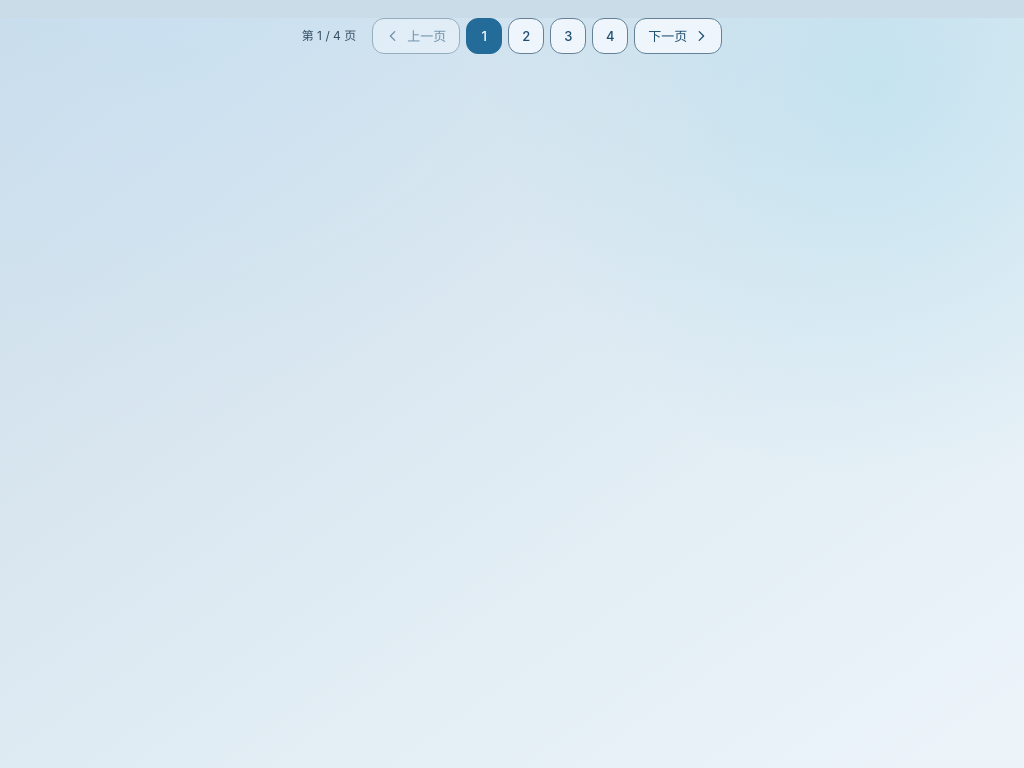
FeaturePagination › disables previous on the first page and next on the last page
Expected: the button "上一页" is disabled, [372, 18, 460, 54]
Click the button "下一页": (678, 36) [634, 18, 722, 54]
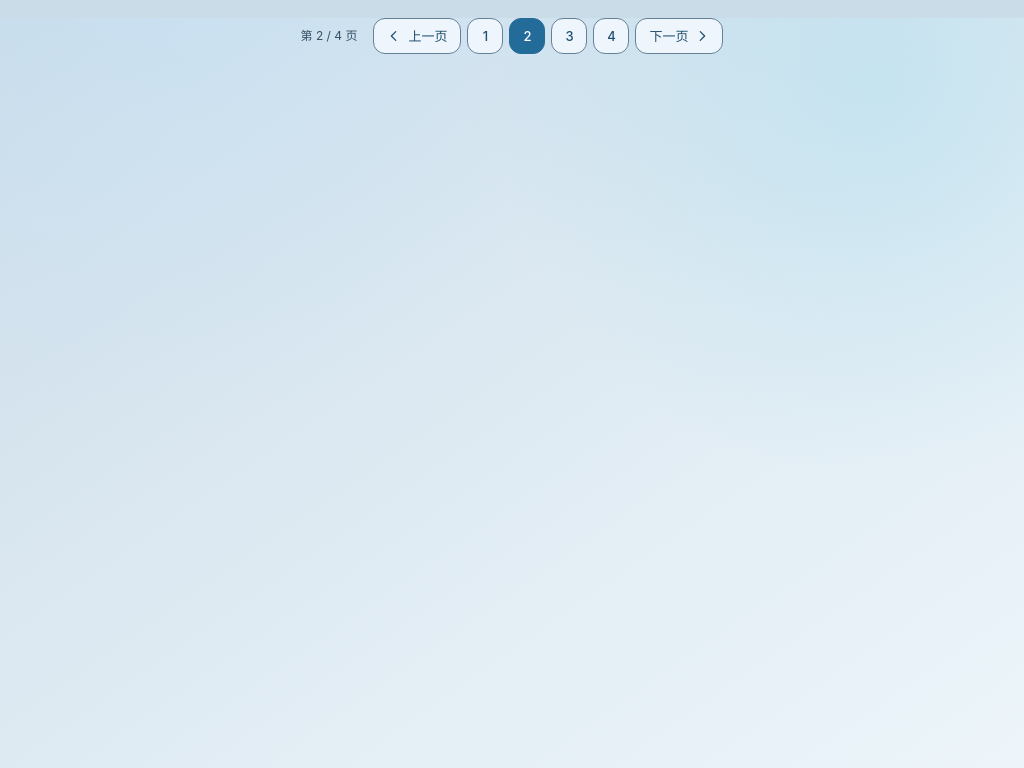
Expected: the button "2" is marked as current, [510, 18, 546, 54]
Click the button "4": (612, 36) [594, 18, 630, 54]
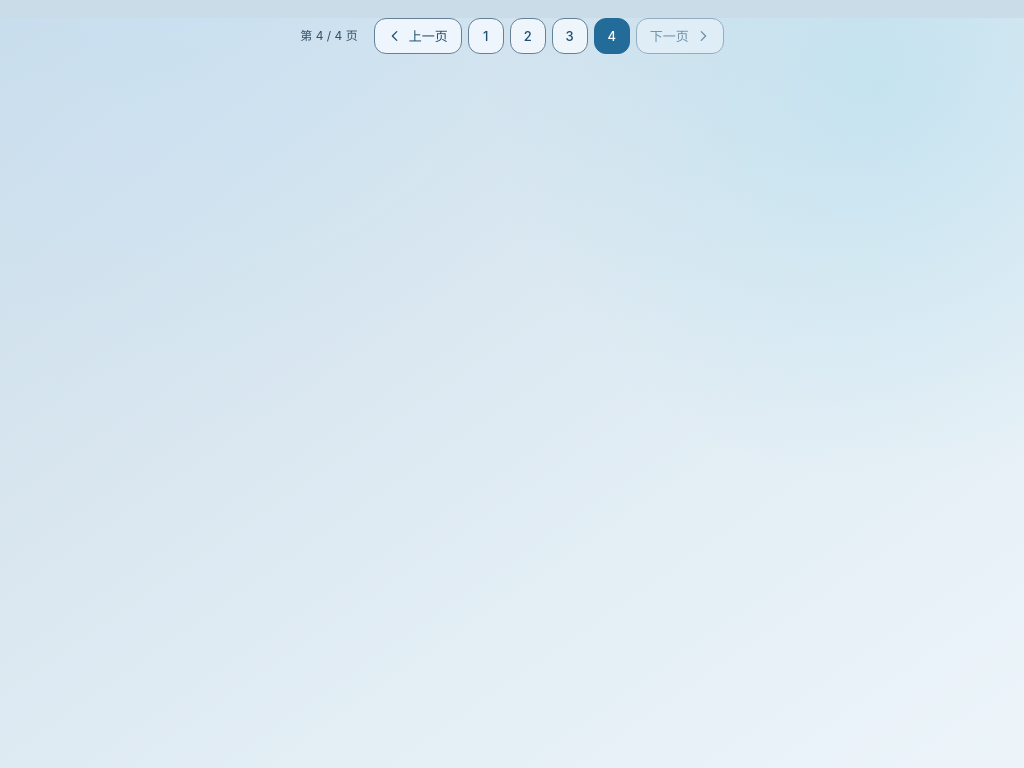
Expected: the button "上一页" is enabled, [374, 18, 462, 54]
Expected: the button "下一页" is disabled, [636, 18, 724, 54]
